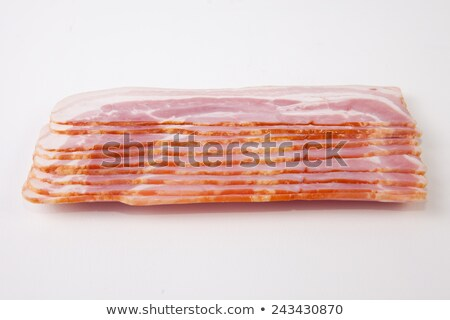bacon: (16, 84, 432, 224)
